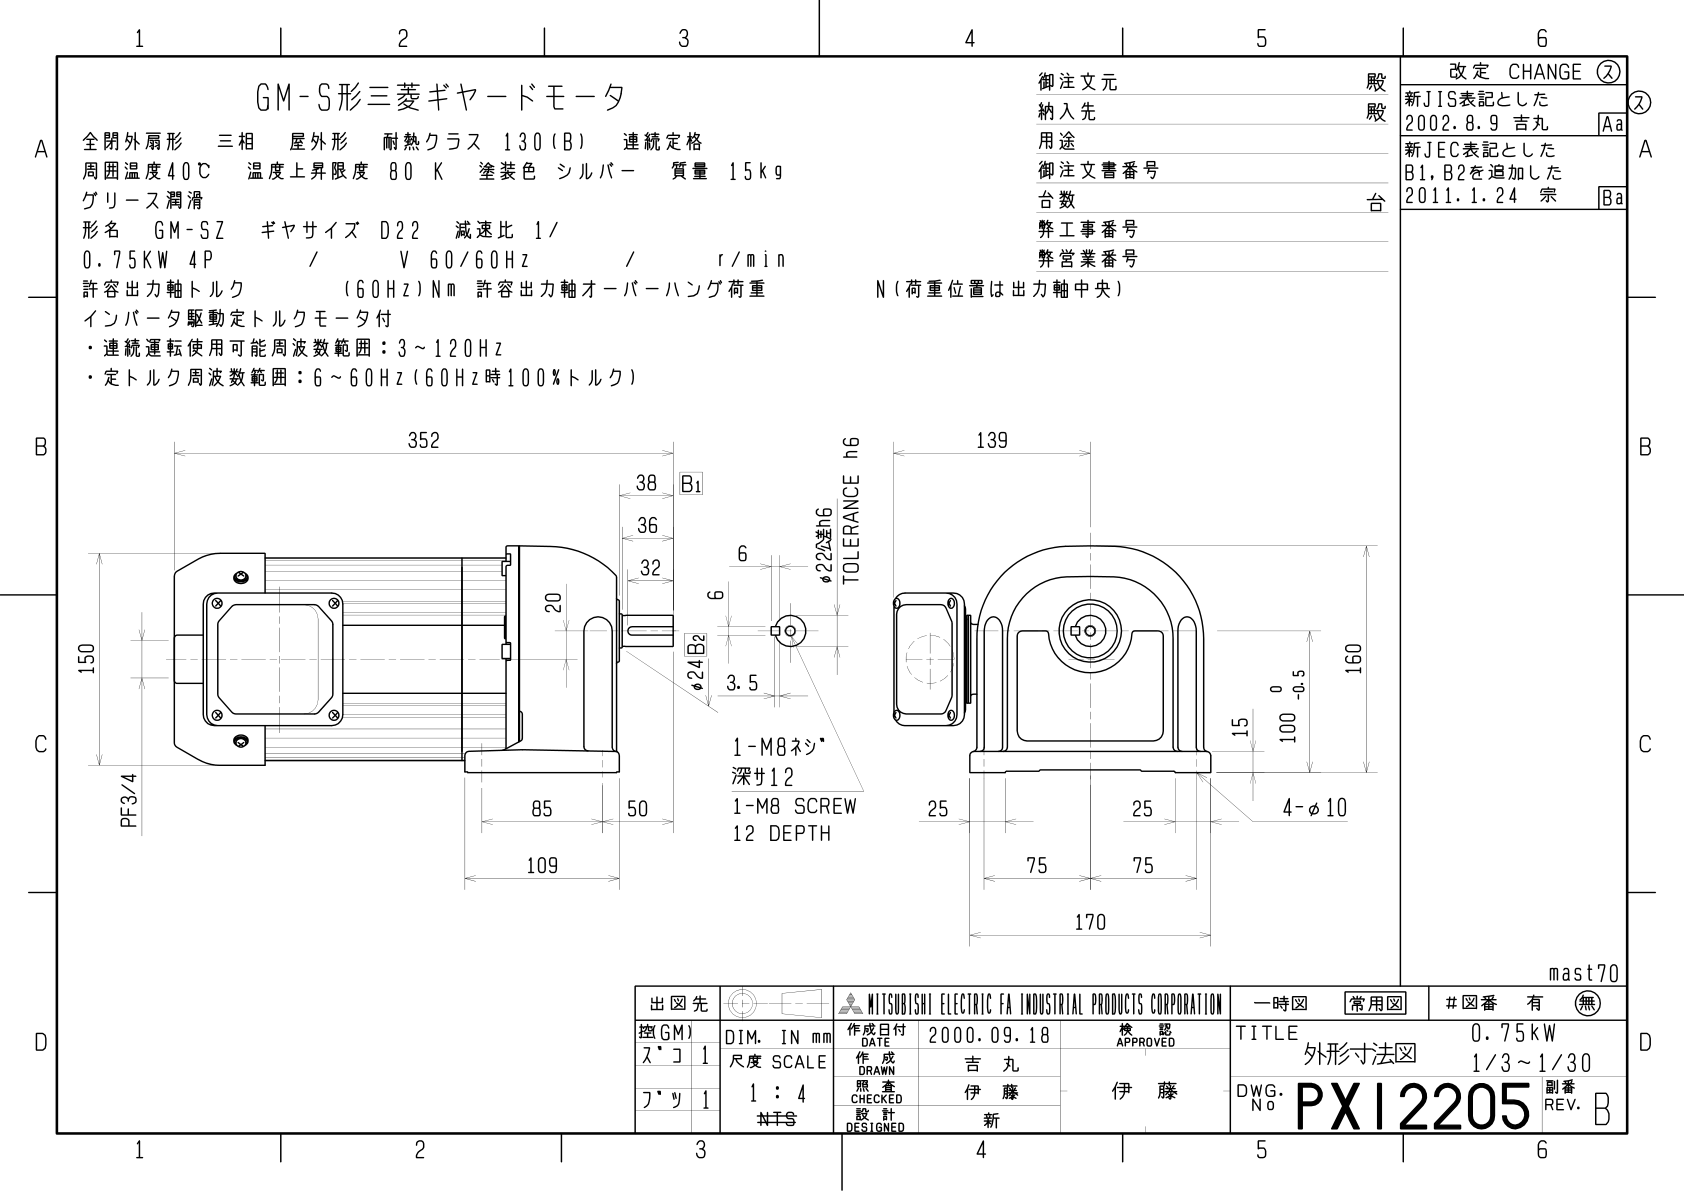GM_S_インバタ屋外＿三相_脚: (26, 21, 1684, 1191)
